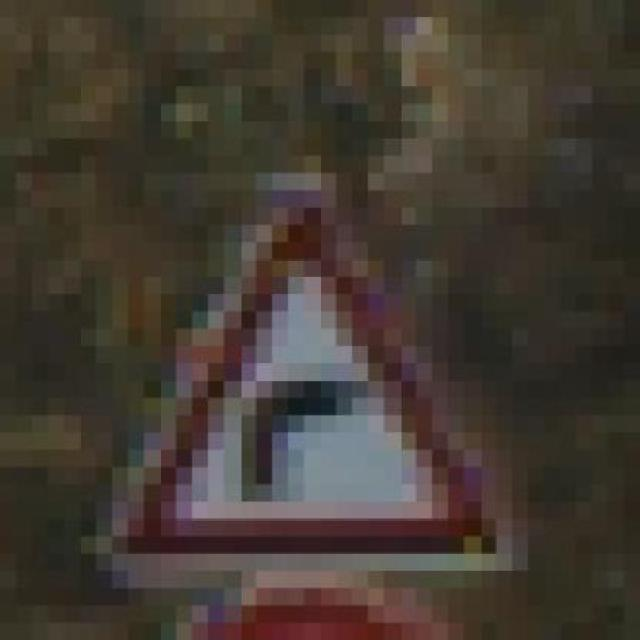Dangerous Rright Curve Ahead: (95, 173, 512, 570)
